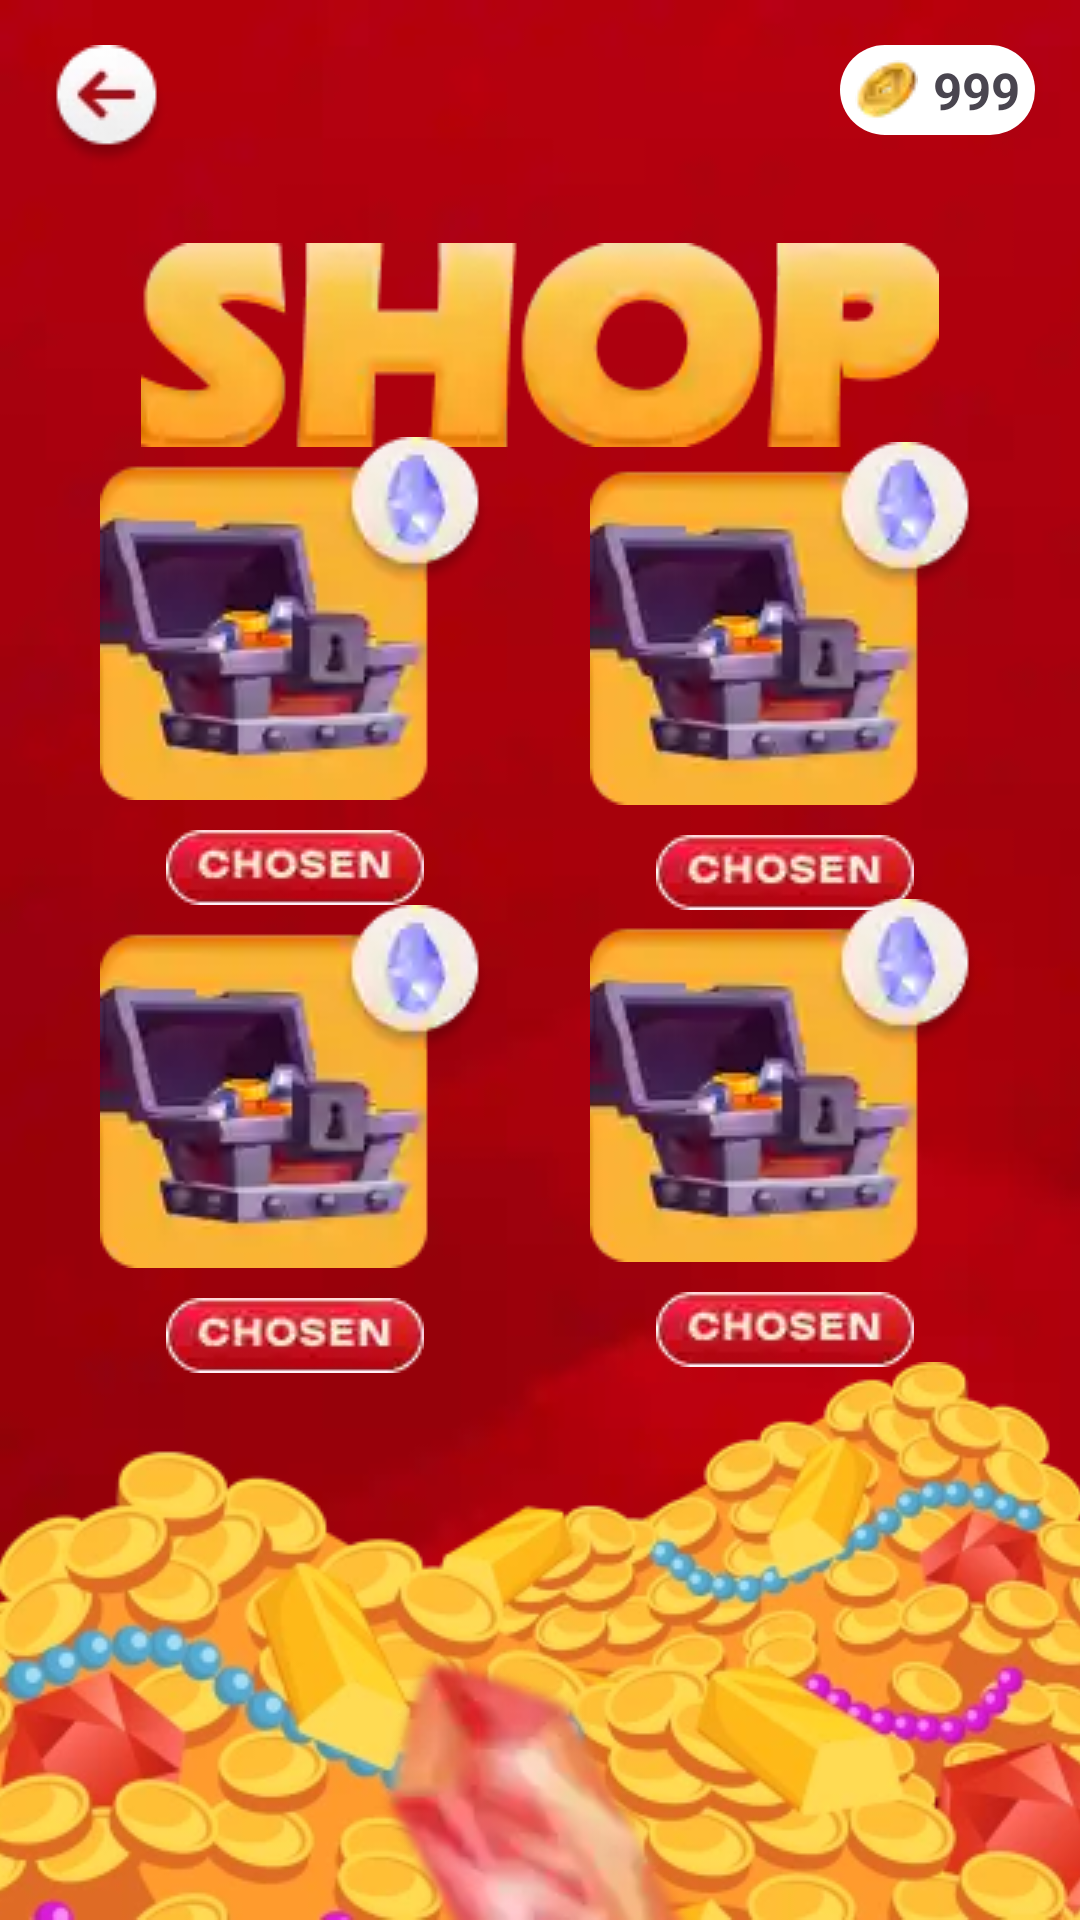

Named icons in this screenshot (1080x1920) and their centers, [x,y]:
back: [106,100]
coin balance: [879,90]
